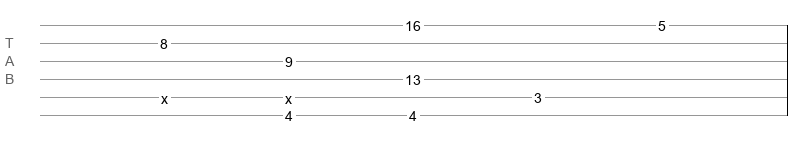13: (405, 72, 421, 82)
16: (405, 18, 421, 28)
3: (534, 90, 542, 100)
4: (285, 108, 293, 118), (409, 108, 417, 118)
5: (658, 18, 666, 28)
8: (160, 36, 168, 46)
9: (285, 54, 293, 64)
x: (161, 91, 168, 99), (285, 91, 292, 99)
